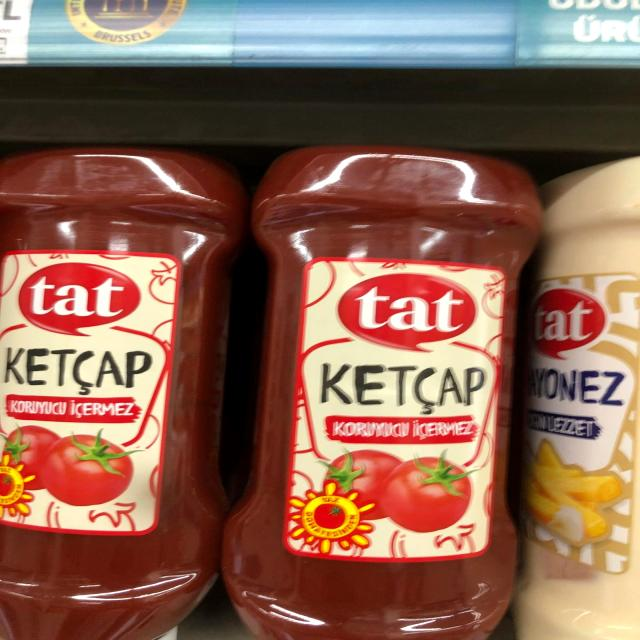ketchup: (216, 147, 548, 640), (0, 143, 255, 640)
